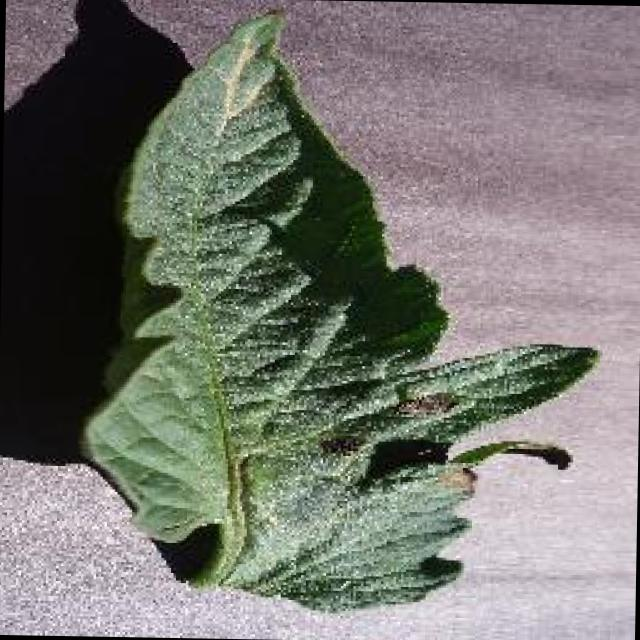Tomato_Early_Blight: (306, 319, 546, 572)
